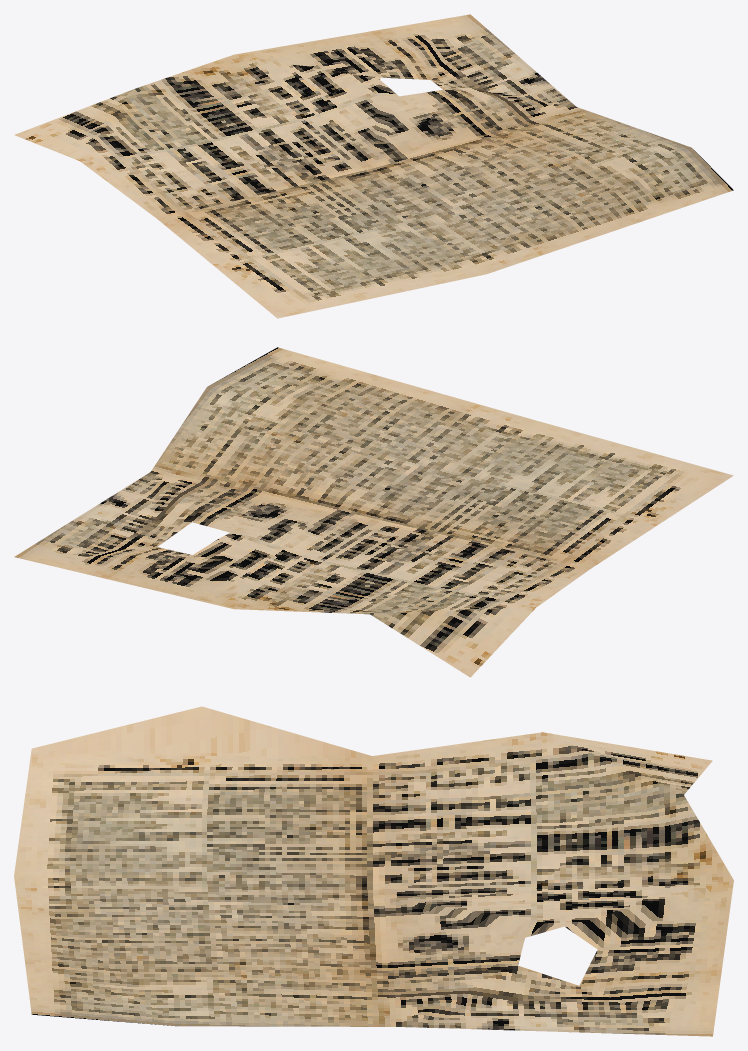
Rendered from Paper2.glb.
The picture shows the model from 3 angles, top to bottom: view 1: azimuth 30°, elevation 25°; view 2: azimuth 150°, elevation 25°; view 3: azimuth 270°, elevation 25°; orthographic projection. The views are drawn at different scales.
Parts seen in each view (by area): view 1: Paper22; view 2: Paper22; view 3: Paper22.
Boxes of the visible parts, box(x1,y1,x2,y2) form: Paper22: box(14, 14, 733, 318); Paper22: box(14, 347, 733, 677); Paper22: box(14, 706, 733, 1036).
Bounding box in the file's own units: 0.9488 × 0.0808 × 0.9723.
1 material, 1 textured.
